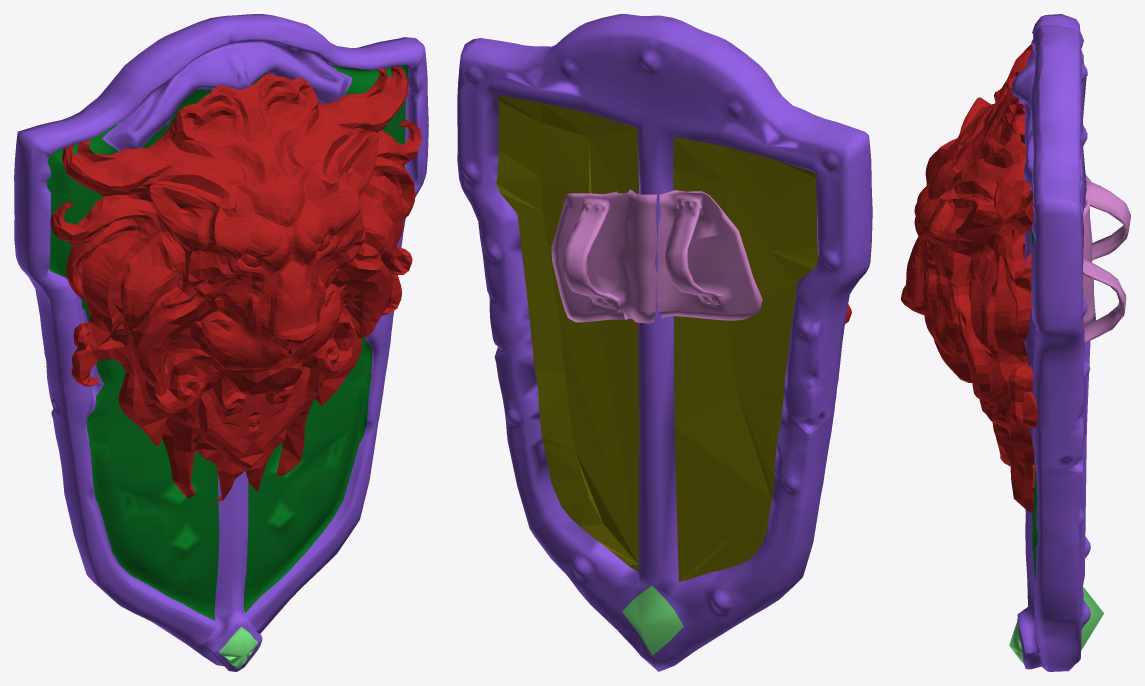
The model's file is shield_l.fbx.
3 views of the same model, side by side, from view 1: azimuth 30°, elevation 25°; view 2: azimuth 150°, elevation 25°; view 3: azimuth 270°, elevation 25° (orthographic). The views are drawn at different scales.
Visible parts, largest first — view 1: Plane003, Plane001; view 2: Plane001, Plane002; view 3: Plane001, Plane003, Plane002.
Part boxes in pixels (left/top/right/bottom): Plane003: left=50, top=66, right=421, bottom=501; Plane001: left=14, top=14, right=428, bottom=671; Plane001: left=457, top=14, right=872, bottom=671; Plane002: left=551, top=189, right=762, bottom=323; Plane001: left=1009, top=14, right=1103, bottom=671; Plane003: left=901, top=44, right=1038, bottom=513; Plane002: left=1082, top=173, right=1130, bottom=342.
Bounding box in the file's own units: 110 × 169 × 55.89.
